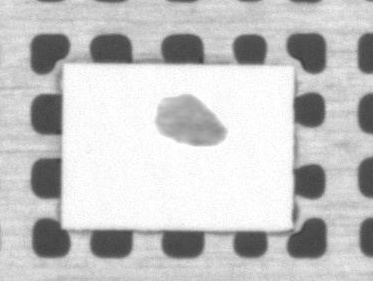DIE_INK: (150, 93, 227, 146)
